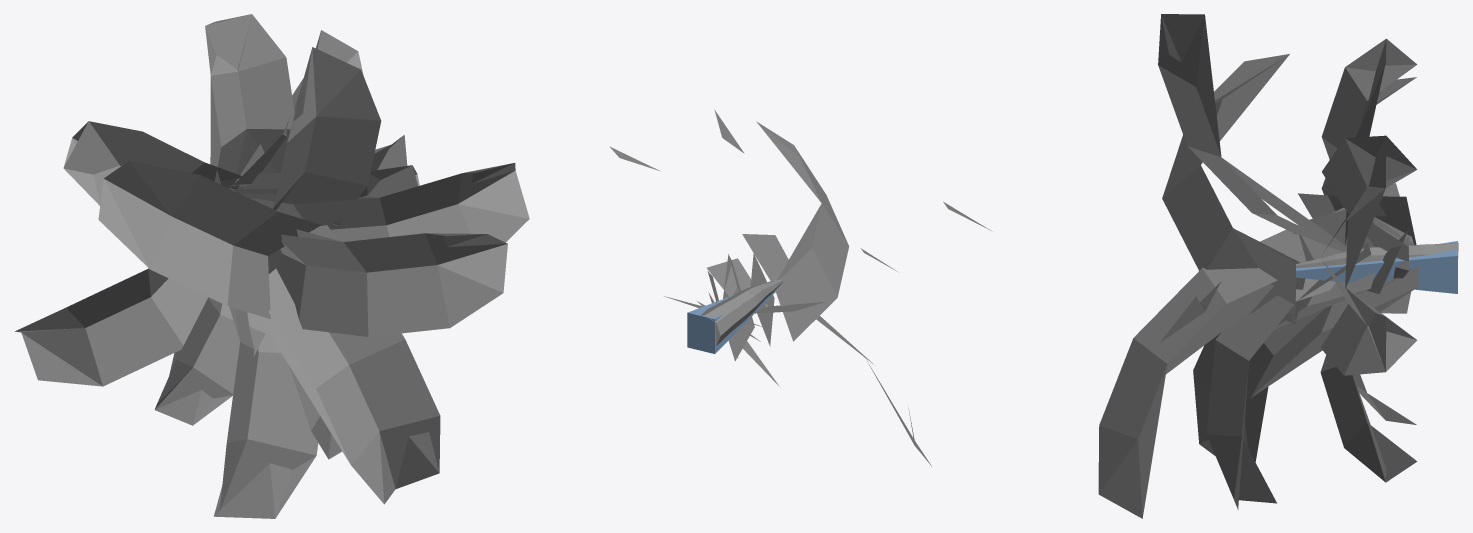
Rendered from trop_BeachPalm01.glb.
The picture shows the model from 3 angles, left to right: view 1: azimuth 30°, elevation 25°; view 2: azimuth 150°, elevation 25°; view 3: azimuth 270°, elevation 25°; orthographic projection. The views are drawn at different scales.
Parts seen in each view (by area): view 1: geometry_0; view 2: geometry_0; view 3: geometry_0.
Part boxes in pixels (x1,y1,x2,y2): geometry_0: (15, 14, 529, 518); geometry_0: (609, 110, 991, 466); geometry_0: (1098, 14, 1458, 518).
Bounding box in the file's own units: 28.36 × 30 × 23.19.
